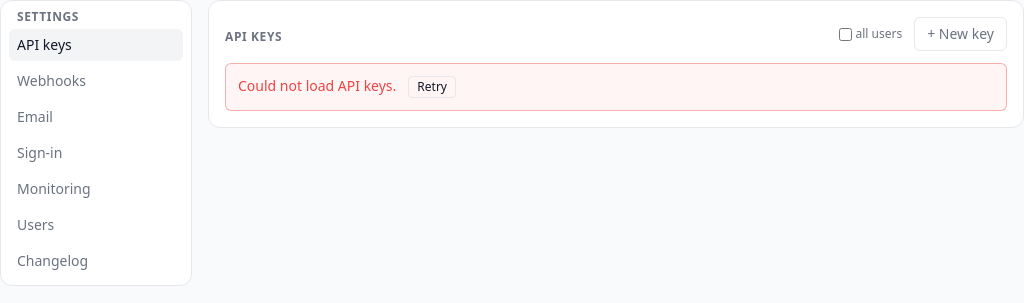
it: API keys interactions (AC-012) › shows an error card with retry when the list fails
This screenshot has width=1024, height=303.
Expected: the text "Could not load API keys." is shown, [238,76,396,95]
Click the button "Retry". click: (432, 87)
box: [408,76,456,98]
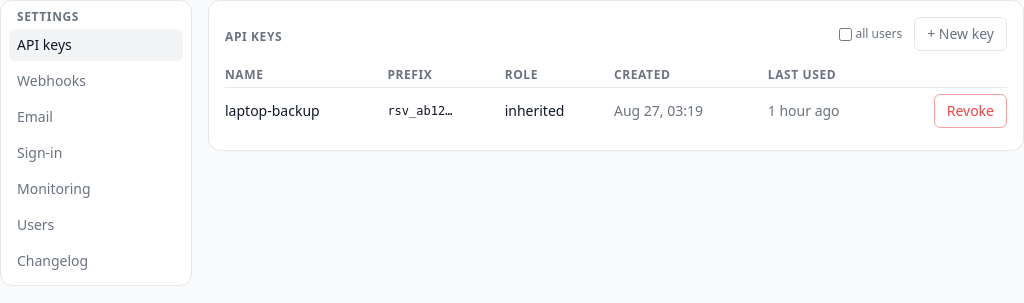
Expected: the number of rows with test id "api-key-row" is 1, [225,88,1007,134]
